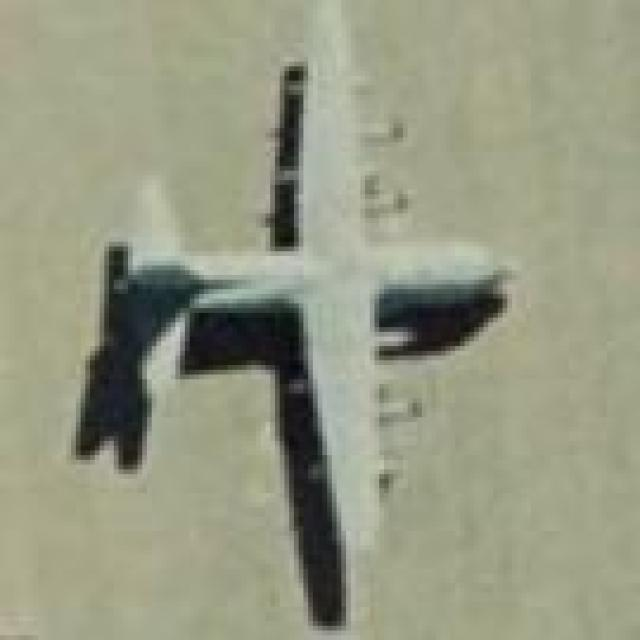C-130_TopDown: (65, 45, 514, 630)
